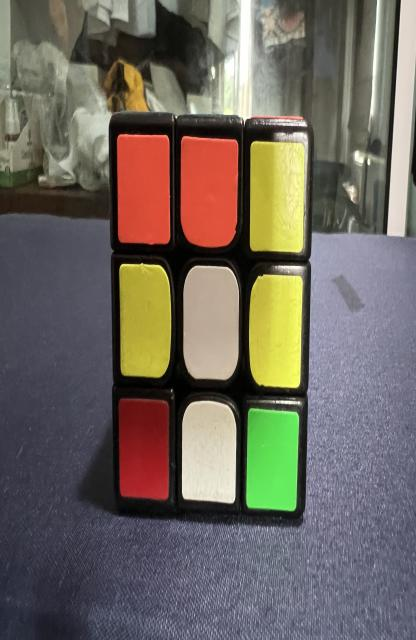Green: (246, 408, 299, 512)
Orange: (180, 137, 238, 247), (117, 133, 171, 245)
Red: (119, 398, 169, 500)
White: (183, 265, 240, 380), (181, 400, 236, 503)
Yellow: (249, 140, 305, 253), (249, 275, 302, 388), (119, 263, 171, 378)
